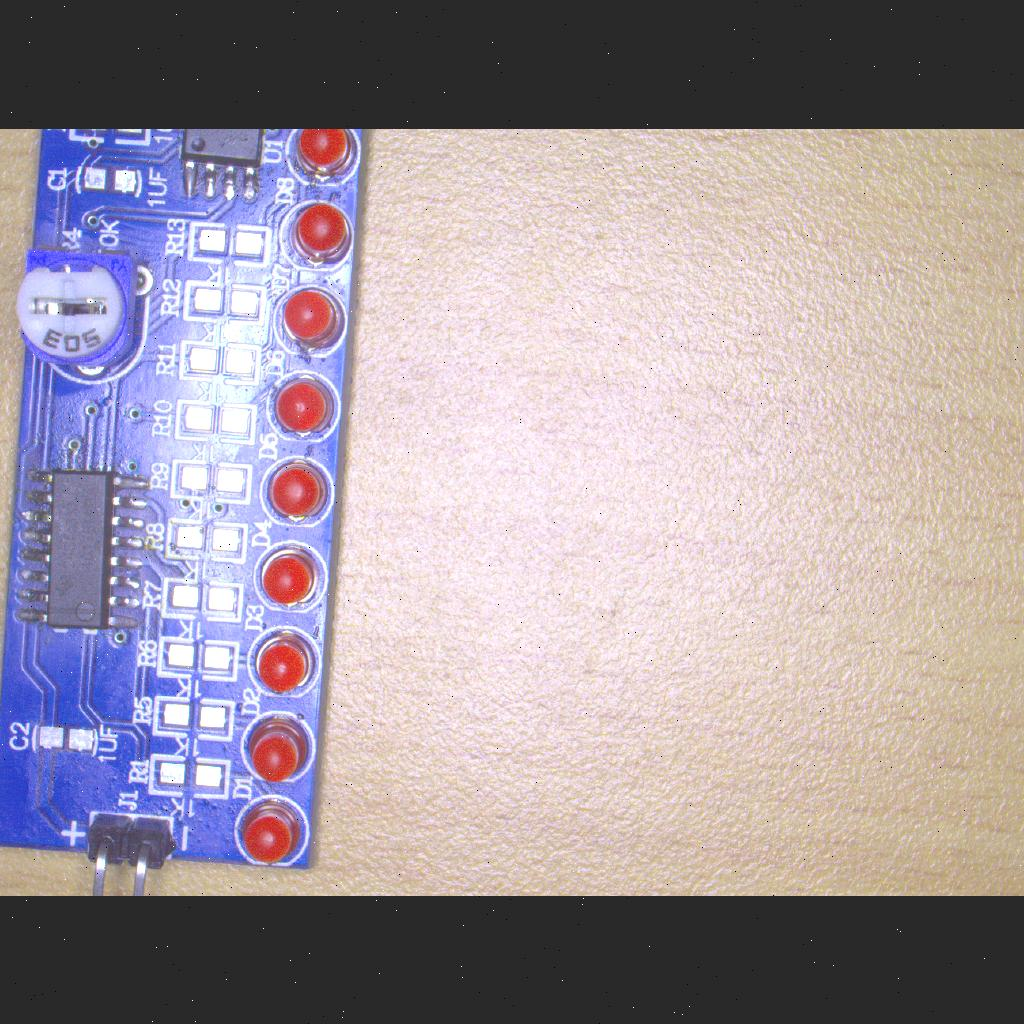NG: (171, 394, 259, 448), (176, 337, 266, 387), (165, 514, 251, 566), (160, 574, 246, 626), (148, 752, 234, 802), (180, 278, 268, 326), (166, 457, 252, 505), (156, 634, 242, 682), (186, 219, 272, 265), (152, 694, 238, 740), (28, 720, 102, 760), (72, 163, 148, 199)
OK: (11, 463, 155, 639)
